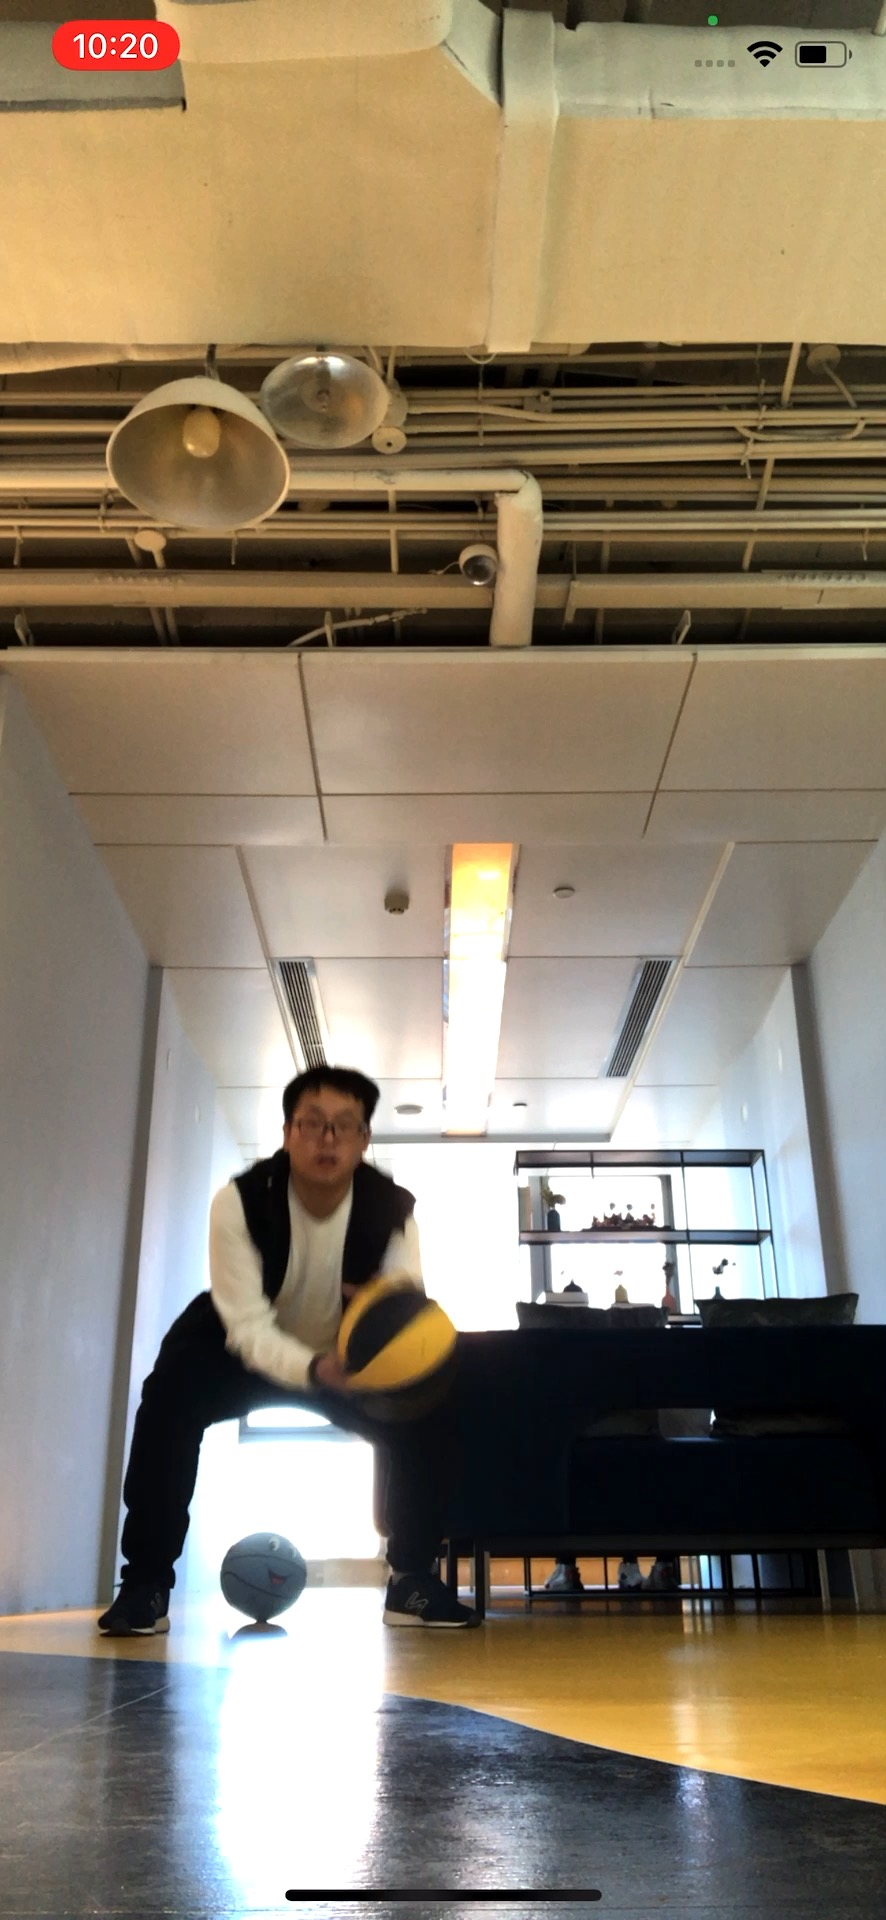ball: (337, 1278, 461, 1414), (221, 1533, 310, 1616)
